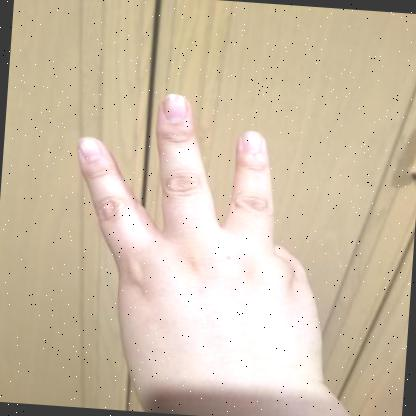W: (77, 94, 334, 416)
